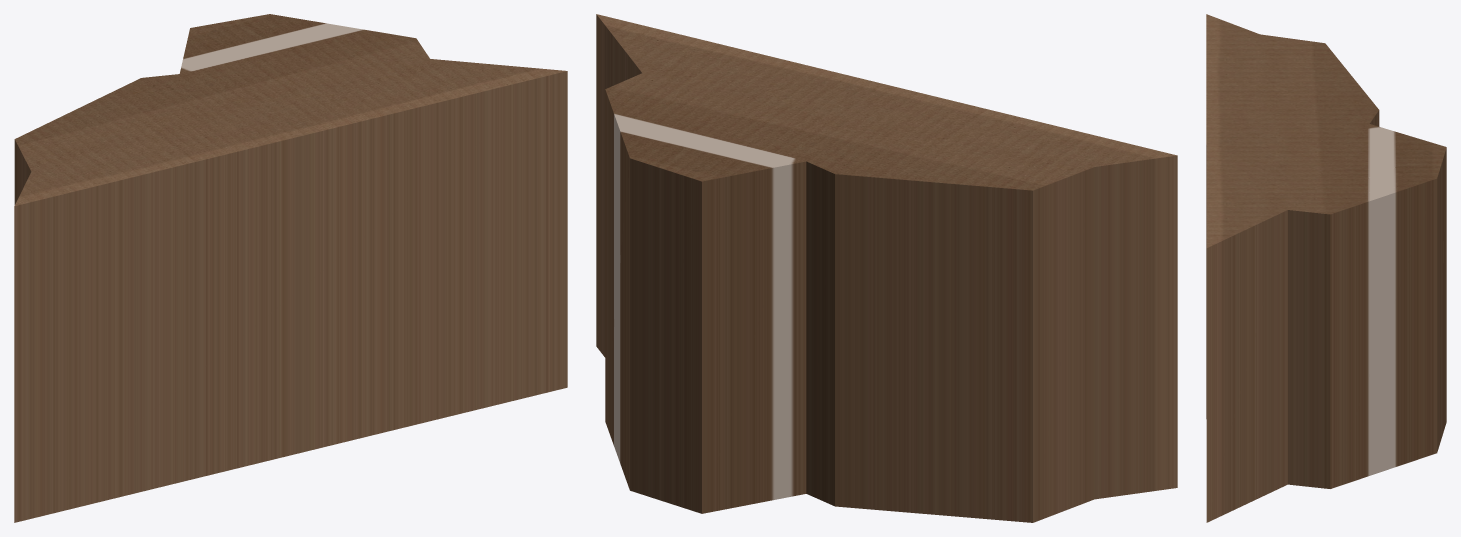
File: road_6.FBX
The picture shows the model from 3 angles, left to right: view 1: azimuth 30°, elevation 25°; view 2: azimuth 150°, elevation 25°; view 3: azimuth 270°, elevation 25°; orthographic projection. The views are drawn at different scales.
Parts seen in each view (by area): view 1: road_6; view 2: road_6; view 3: road_6.
Boxes of the visible parts, x1,y1,x2,y2 form: road_6: [14, 14, 567, 522]; road_6: [596, 14, 1177, 522]; road_6: [1206, 14, 1446, 522].
Size of the model in its own units: 732 by 400 by 318.
1 material, 1 textured.
